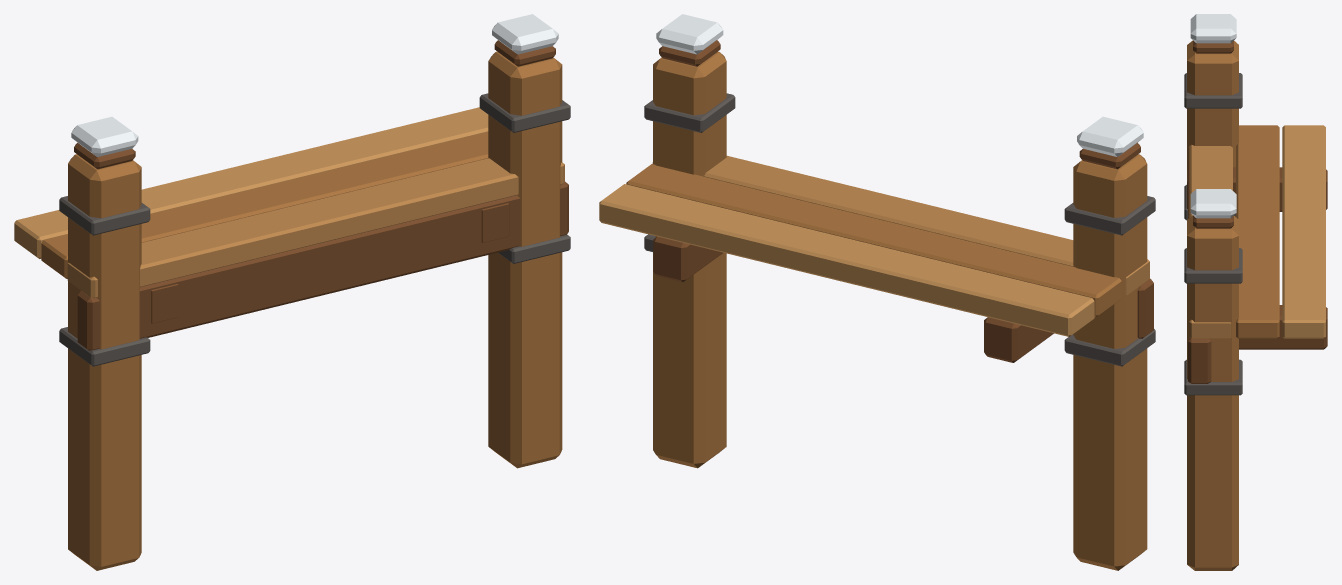
Rendered from dock_end_cap.glb.
The picture shows the model from 3 angles, left to right: view 1: azimuth 30°, elevation 25°; view 2: azimuth 150°, elevation 25°; view 3: azimuth 270°, elevation 25°; orthographic projection. The views are drawn at different scales.
Visible parts, largest first — view 1: dock_end_cap; view 2: dock_end_cap; view 3: dock_end_cap.
Part boxes in pixels (box(x1,y1,x2,y2)): dock_end_cap: box(14, 14, 570, 570); dock_end_cap: box(599, 14, 1155, 570); dock_end_cap: box(1184, 14, 1327, 570).
Bounding box in the file's own units: 2.04 × 1.74 × 0.615.
